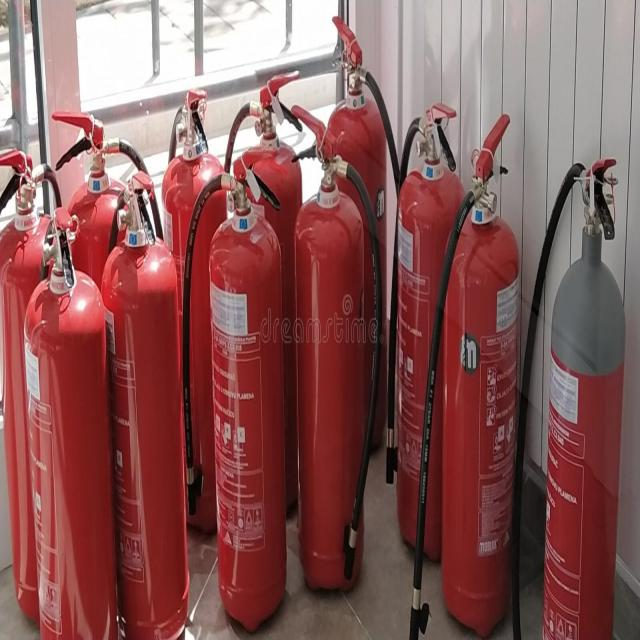fire_extinguisher: (48, 107, 176, 639), (508, 154, 640, 639), (407, 113, 524, 639), (180, 141, 287, 633), (288, 102, 386, 597), (319, 13, 425, 462), (97, 166, 194, 639), (22, 200, 124, 639), (218, 56, 307, 545), (384, 96, 474, 575), (0, 141, 80, 639), (160, 81, 236, 543)
